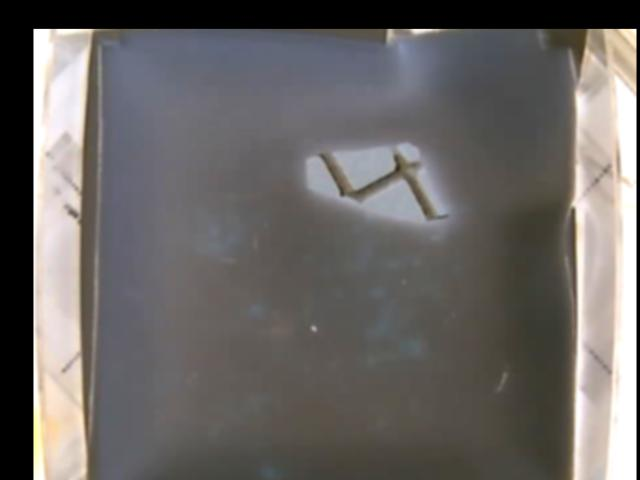China: (302, 143, 448, 224)
